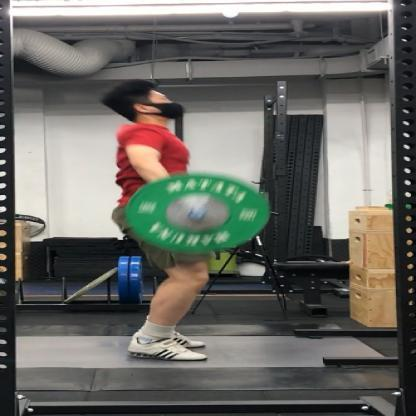Barbell: (184, 208, 213, 224)
